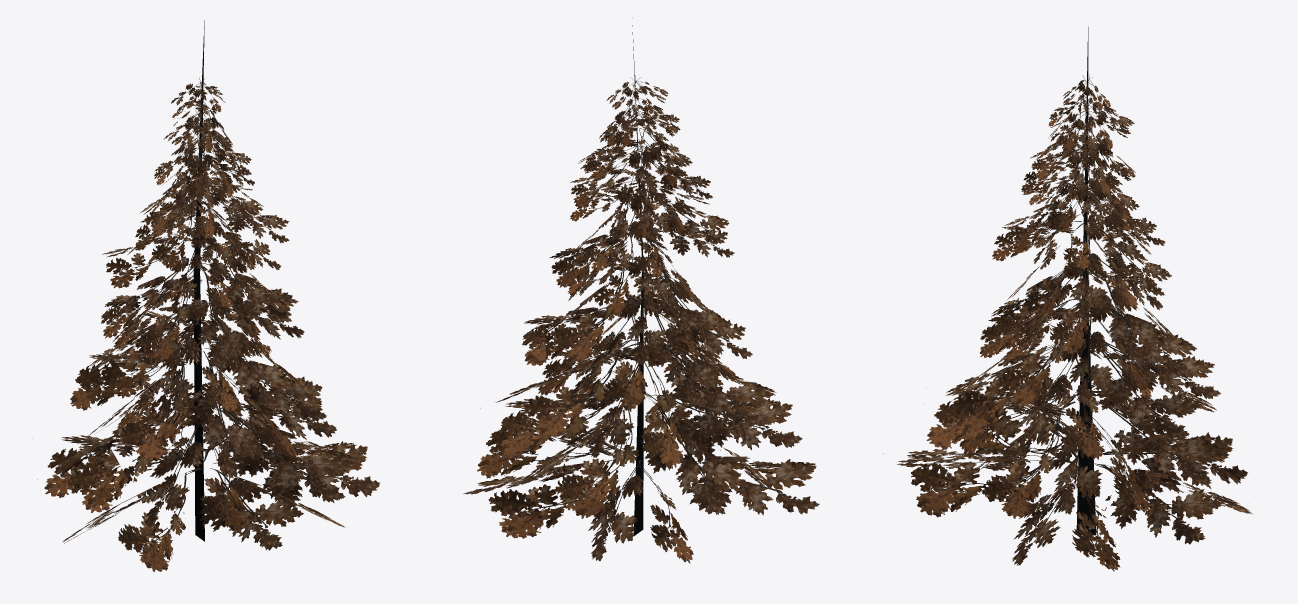
Rendered from spruce1 lod1.FBX.
3 renders of one model, left to right at view 1: azimuth 30°, elevation 25°; view 2: azimuth 150°, elevation 25°; view 3: azimuth 270°, elevation 25°, orthographic.
Parts seen in each view (by area): view 1: spruce1_LOD1; view 2: spruce1_LOD1; view 3: spruce1_LOD1.
Boxes of the visible parts, x1,y1,x2,y2 form: spruce1_LOD1: (32,20,380,571); spruce1_LOD1: (463,25,819,563); spruce1_LOD1: (883,27,1252,571).
Size of the model in its own units: 42229 by 58680 by 42009.
